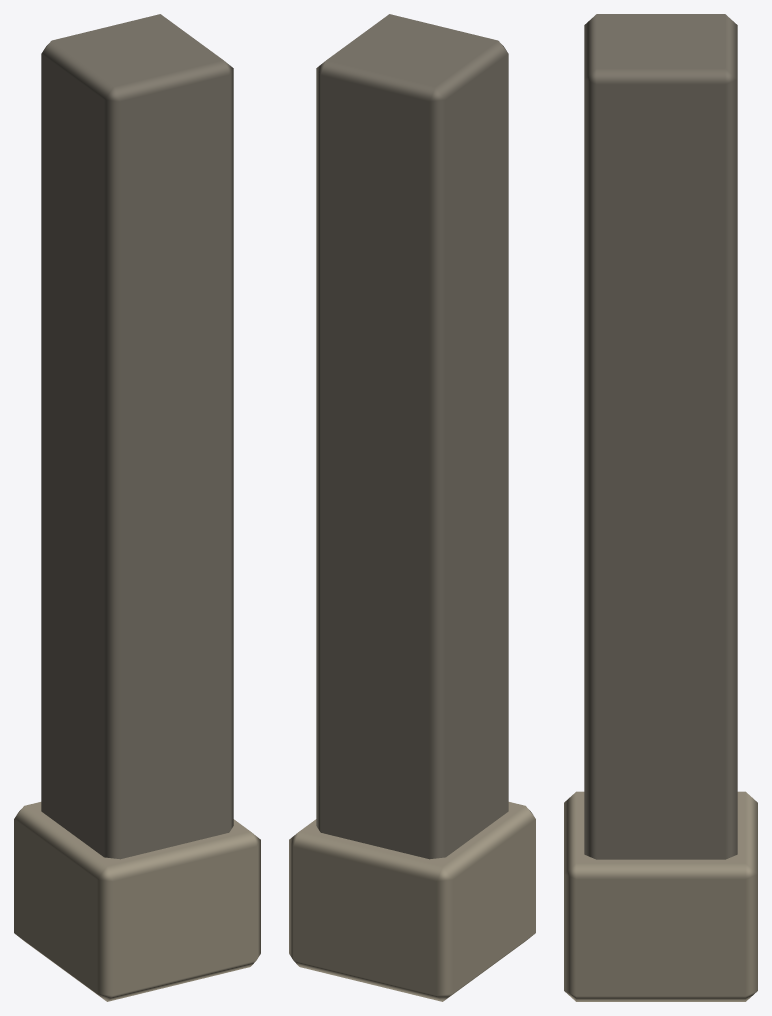
File: stone-halls-post-l.ef5bba66.glb
The picture shows the model from 3 angles, left to right: view 1: azimuth 30°, elevation 25°; view 2: azimuth 150°, elevation 25°; view 3: azimuth 270°, elevation 25°; orthographic projection. The views are drawn at different scales.
Visible parts, largest first — view 1: body; view 2: body; view 3: body.
Part boxes in pixels (x1,y1,x2,y2): body: (14,14,260,1001); body: (289,14,535,1001); body: (564,14,757,1001).
Bounding box in the file's own units: 0.38 × 2 × 0.38.
